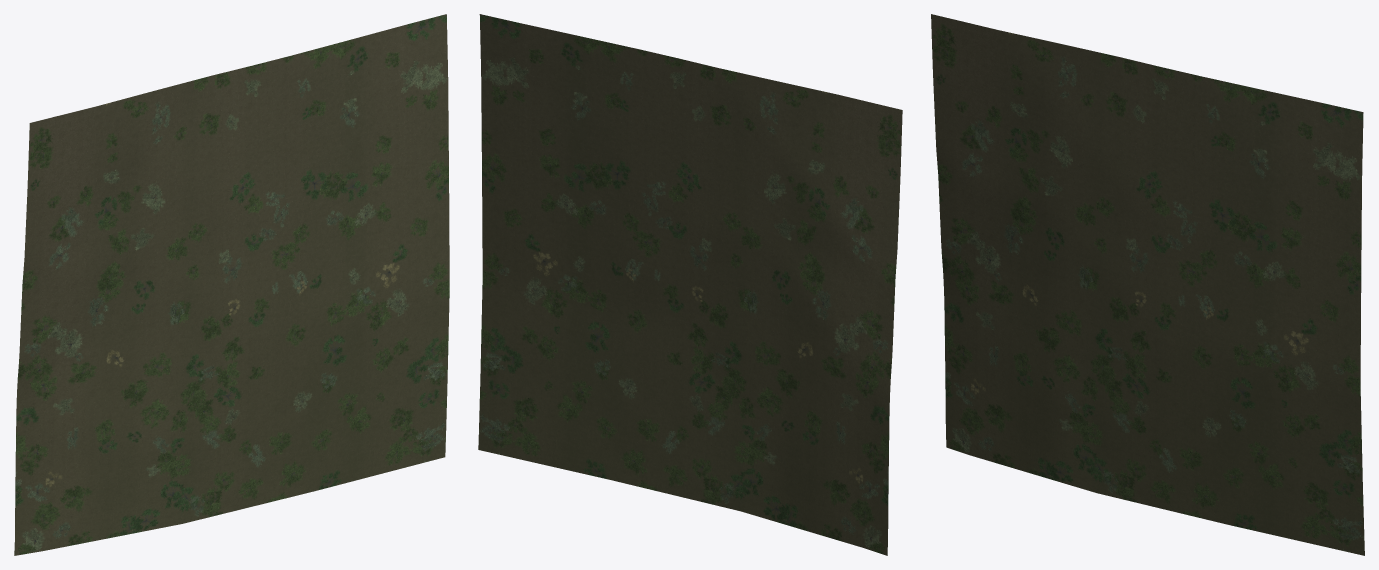
Rendered from terrain_near_04_00.obj.
3 views of the same model, side by side, from view 1: azimuth 30°, elevation 25°; view 2: azimuth 150°, elevation 25°; view 3: azimuth 330°, elevation 25° (orthographic). The views are drawn at different scales.
Visible parts, largest first — view 1: terrain_near_04_00; view 2: terrain_near_04_00; view 3: terrain_near_04_00.
Part boxes in pixels (x1,y1,x2,y2): terrain_near_04_00: (14, 14, 449, 555); terrain_near_04_00: (478, 14, 902, 555); terrain_near_04_00: (931, 14, 1364, 555).
Size of the model in its own units: 64 by 64 by 4.04.
Materials: 1 (1 with a texture image).
